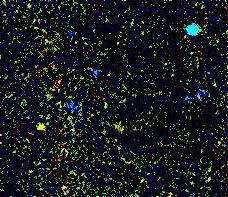star: (26, 113, 56, 143)
